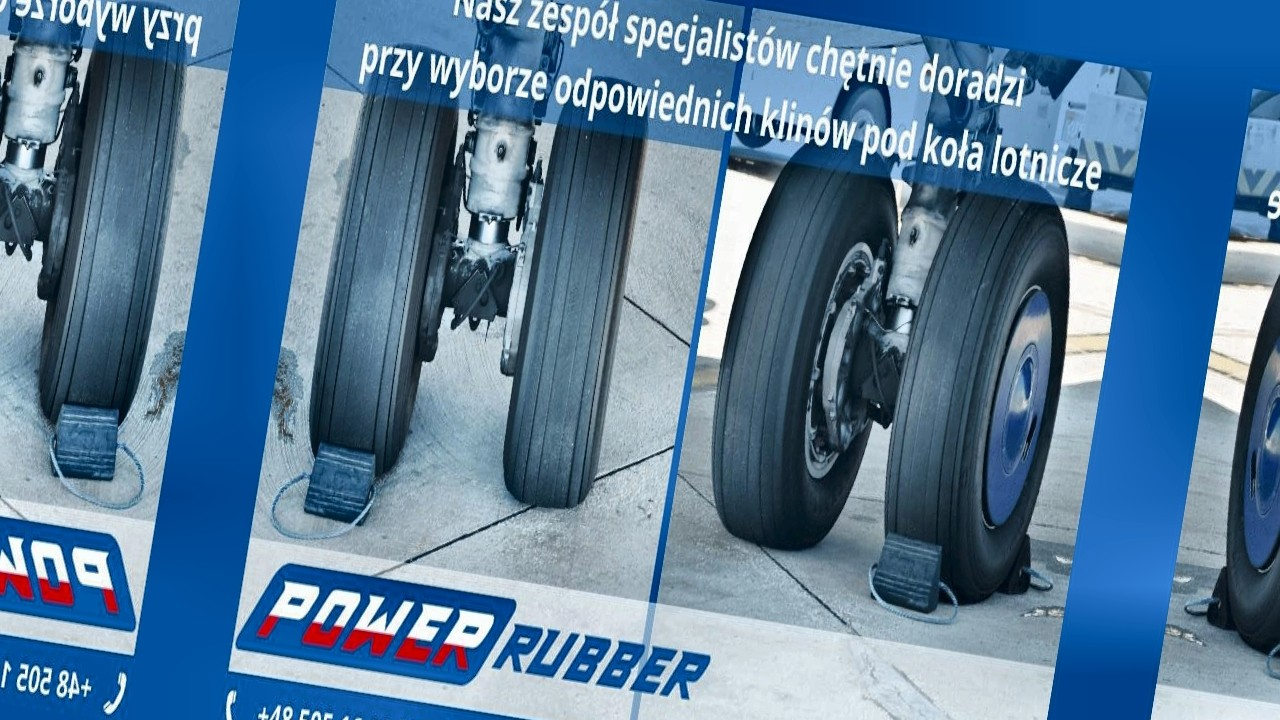chock: (42, 392, 127, 493), (299, 434, 384, 535), (867, 527, 950, 619), (1199, 562, 1246, 635), (997, 530, 1043, 602)
wheel: (865, 178, 1091, 614), (692, 140, 914, 561), (295, 38, 473, 483), (26, 0, 204, 440), (491, 73, 660, 515), (1204, 232, 1280, 669), (823, 68, 902, 165)
